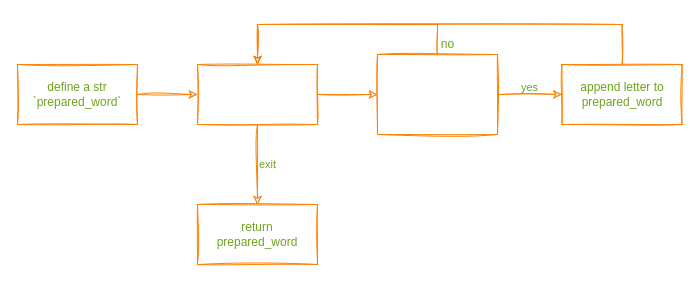
Some shapes in this 700 by 282 pixel diagram are drawn without their labels. The shapes that lost their labels are listed below. From the top down, each one's box as (x1, y1, x2, y2) in pixels, then its label:
(196, 64, 318, 124): for each letter in input word
(376, 54, 498, 134): letter is alpha-numeric ? (spaces are not alpha-numeric)
